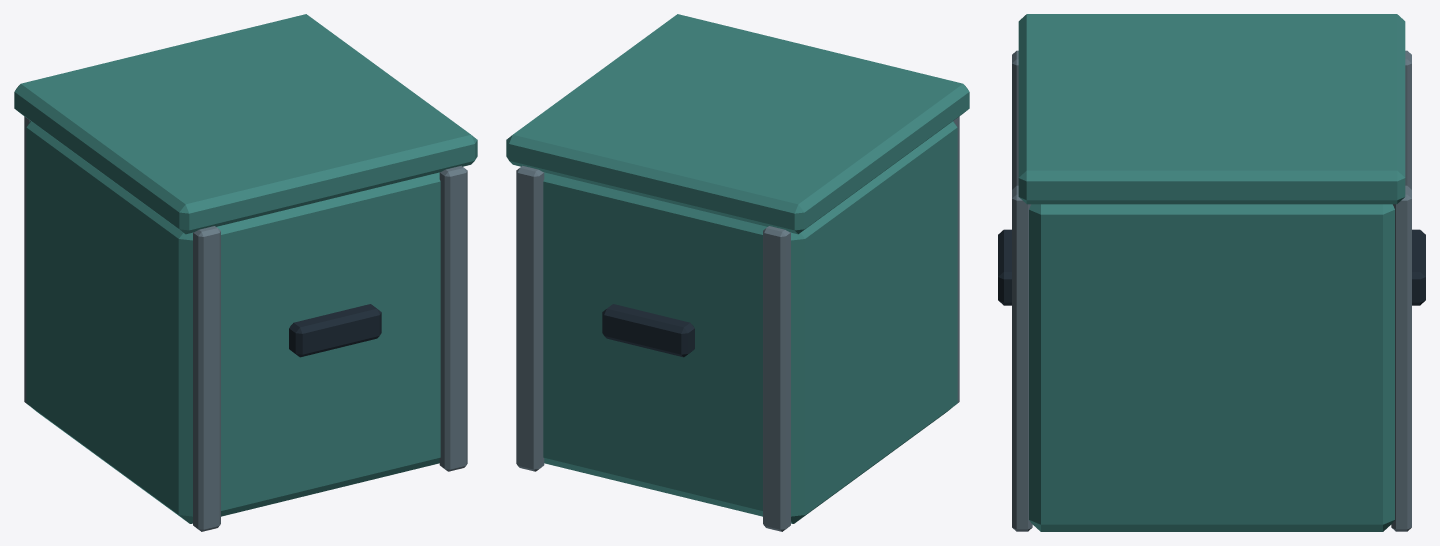
File: props-crate-metal.lod0.glb
3 views of the same model, side by side, from view 1: azimuth 30°, elevation 25°; view 2: azimuth 150°, elevation 25°; view 3: azimuth 270°, elevation 25° (orthographic). The views are drawn at different scales.
Parts seen in each view (by area): view 1: props-crate-metal__body, props-crate-metal__lid; view 2: props-crate-metal__body, props-crate-metal__lid; view 3: props-crate-metal__body, props-crate-metal__lid.
Part boxes in pixels (bbox=[...]): props-crate-metal__body: bbox=[24, 116, 467, 531]; props-crate-metal__lid: bbox=[14, 14, 477, 234]; props-crate-metal__body: bbox=[516, 116, 959, 531]; props-crate-metal__lid: bbox=[506, 14, 969, 234]; props-crate-metal__body: bbox=[998, 50, 1425, 531]; props-crate-metal__lid: bbox=[1018, 14, 1405, 204].
Size of the model in its own units: 1.04 by 1.09 by 1.15.
